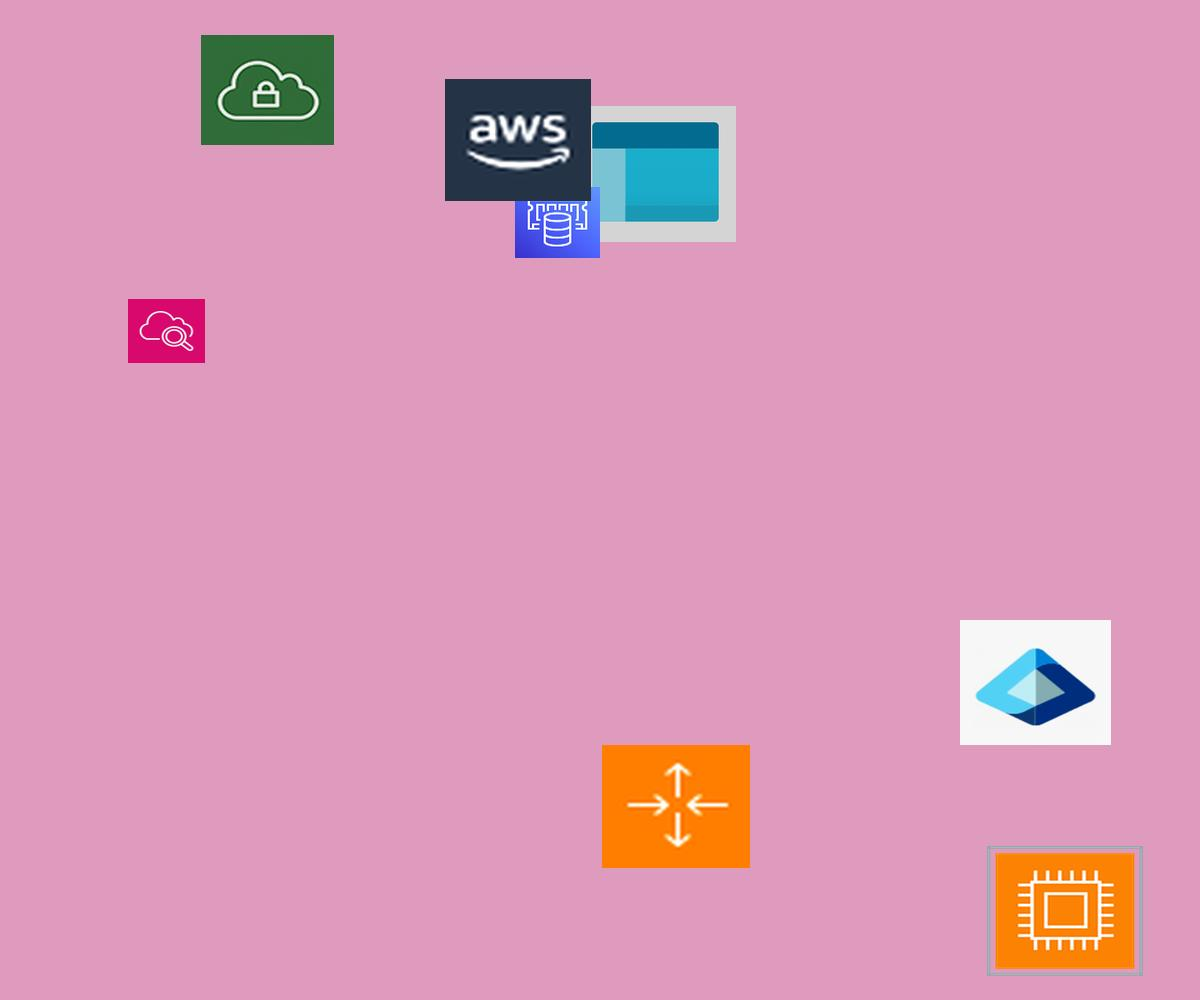AWS-Category_Compute: (987, 846, 1143, 976)
AWS-Cloud-logo: (445, 79, 591, 201)
AWS-CloudWatch: (128, 299, 205, 363)
AWS-ElastiCache: (515, 187, 600, 258)
AWS-Private_vpc: (201, 35, 334, 145)
AWS-Scaling-group: (602, 745, 750, 868)
Azure_management-portal: (572, 106, 736, 242)
Azure_microsoft_entra: (960, 620, 1111, 745)
